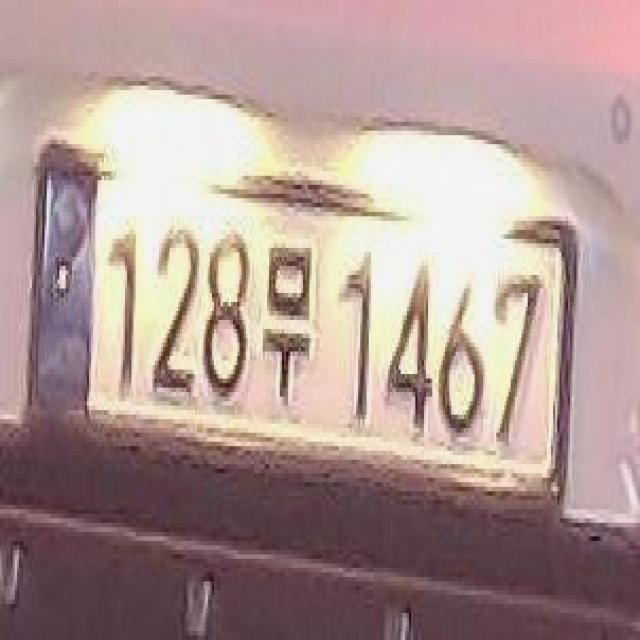illegal_plate: (29, 145, 576, 514)
